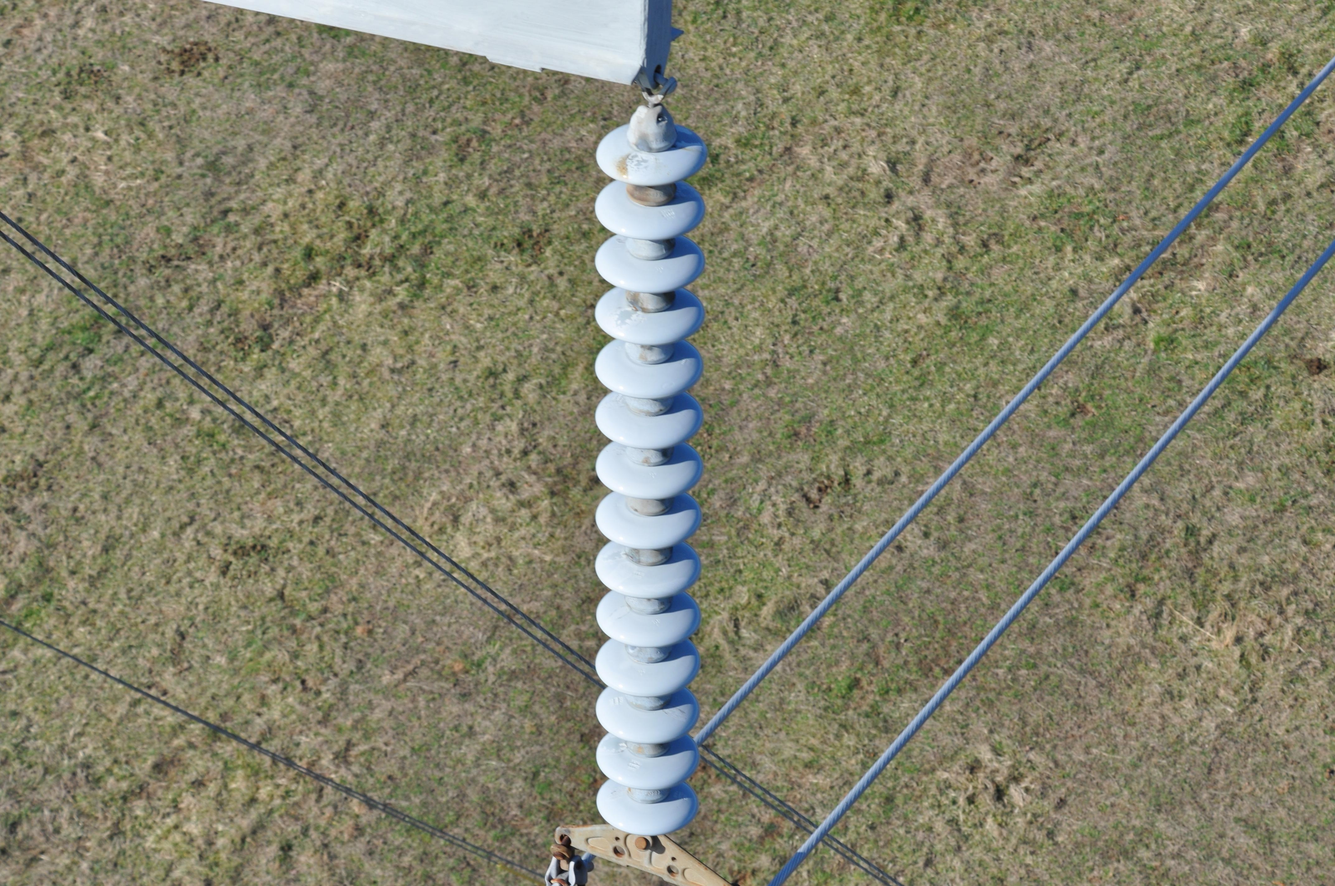Flashover: (610, 144, 655, 182), (611, 302, 646, 335)
insulator: (592, 128, 713, 840)
